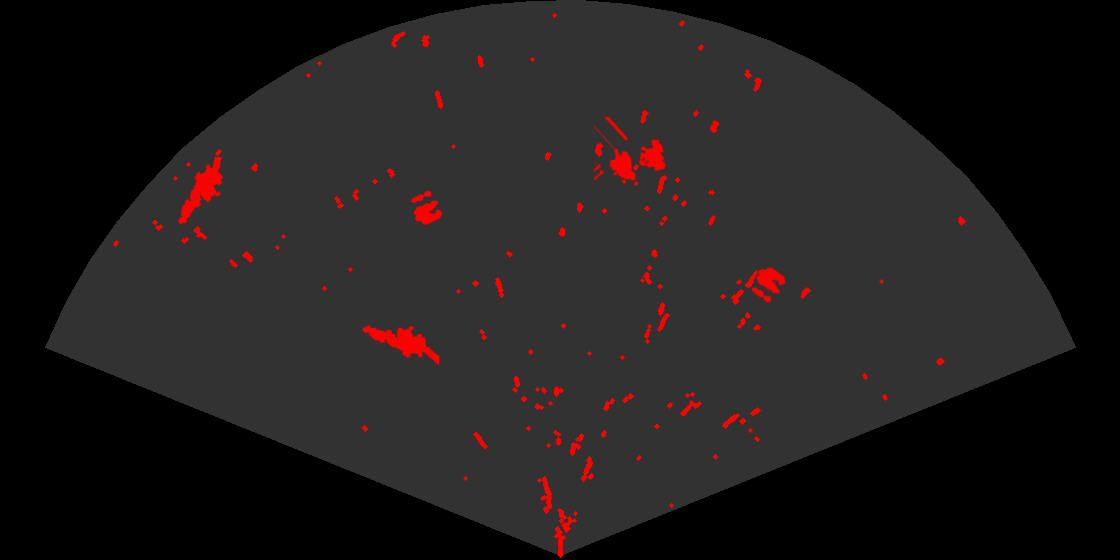ball: (750, 265, 787, 304), (409, 189, 444, 227)
cage: (594, 117, 667, 187)
frogman: (361, 324, 439, 367), (177, 157, 224, 226)
